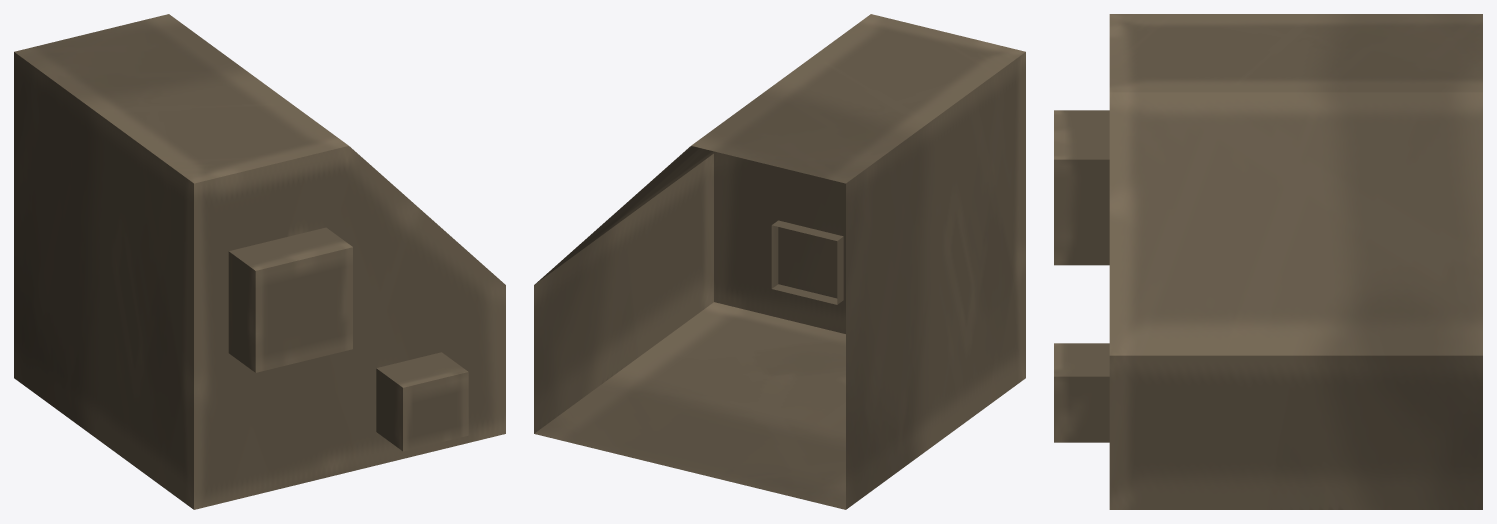
The model's file is Wall_1x1_Corner_2.obj.
3 renders of one model, left to right at view 1: azimuth 30°, elevation 25°; view 2: azimuth 150°, elevation 25°; view 3: azimuth 270°, elevation 25°, orthographic. The views are drawn at different scales.
Visible parts, largest first — view 1: Cube; view 2: Cube; view 3: Cube.
Part boxes in pixels (bbox=[...]): Cube: bbox=[14, 14, 505, 509]; Cube: bbox=[534, 14, 1025, 509]; Cube: bbox=[1054, 14, 1482, 509].
Bounding box in the file's own units: 2 × 2 × 2.3.
